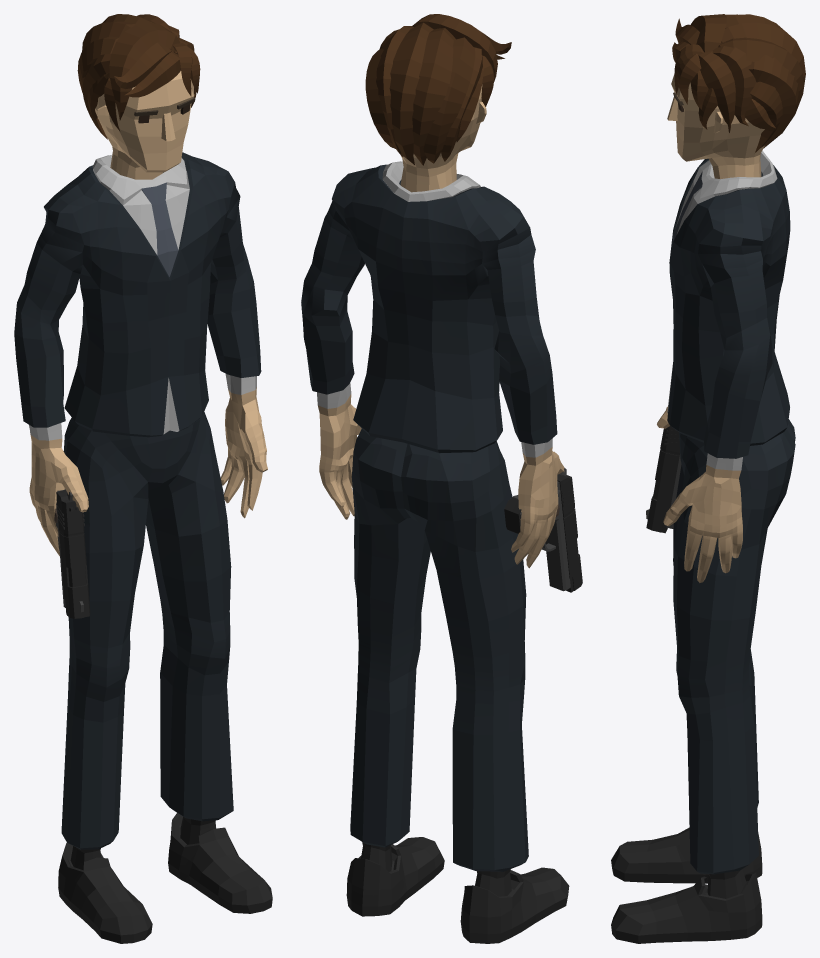
File: man-suit.glb
3 renders of one model, left to right at view 1: azimuth 30°, elevation 25°; view 2: azimuth 150°, elevation 25°; view 3: azimuth 270°, elevation 25°, orthographic. The views are drawn at different scales.
Parts seen in each view (by area): view 1: Suit_Body, Suit_Legs, Suit_Head, Suit_Feet, Pistol; view 2: Suit_Body, Suit_Legs, Suit_Head, Suit_Feet, Pistol; view 3: Suit_Body, Suit_Legs, Suit_Head, Suit_Feet, Pistol.
Boxes of the visible parts, x1=… form: Suit_Body: x1=14, y1=152, x2=267, y2=556; Suit_Legs: x1=61, y1=412, x2=233, y2=849; Suit_Head: x1=77, y1=14, x2=200, y2=179; Suit_Feet: x1=58, y1=813, x2=272, y2=943; Pistol: x1=54, y1=489, x2=90, y2=618; Suit_Body: x1=301, y1=161, x2=564, y2=568; Suit_Legs: x1=350, y1=428, x2=528, y2=871; Suit_Head: x1=365, y1=14, x2=511, y2=192; Suit_Feet: x1=346, y1=837, x2=569, y2=943; Pistol: x1=504, y1=468, x2=582, y2=592; Suit_Body: x1=657, y1=151, x2=790, y2=582; Suit_Legs: x1=673, y1=419, x2=795, y2=874; Suit_Head: x1=667, y1=14, x2=805, y2=179; Suit_Feet: x1=611, y1=827, x2=762, y2=943; Pistol: x1=646, y1=426, x2=681, y2=533.
Bounding box in the file's own units: 0.5261 × 1.85 × 0.3702.
